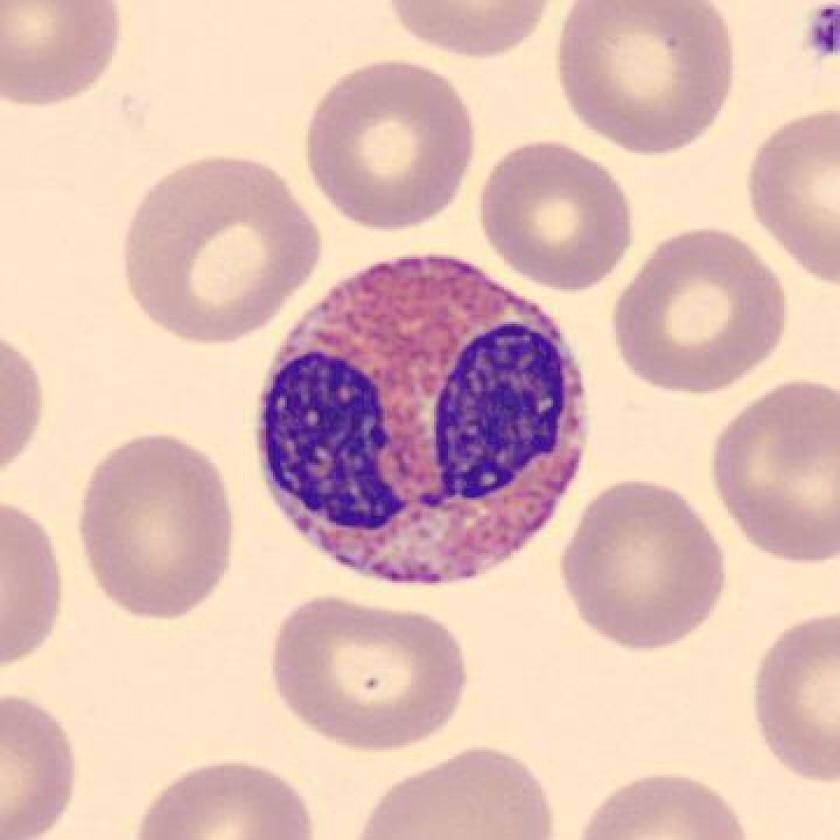eosinophil: (246, 239, 598, 603)
